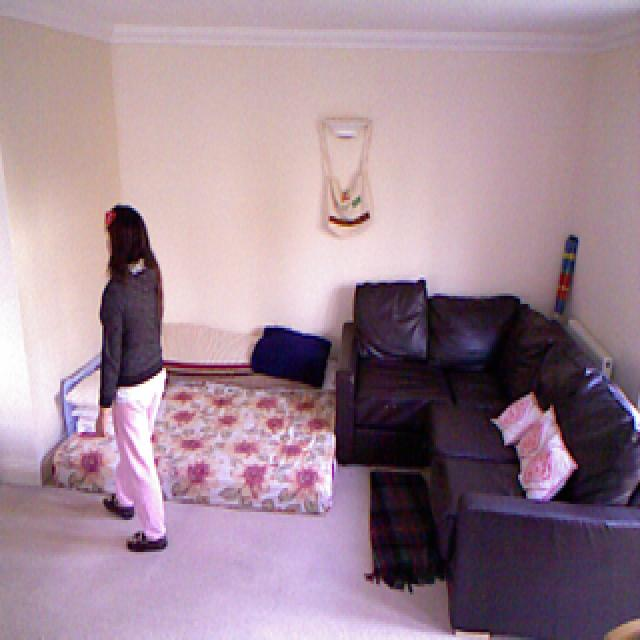standing: (91, 200, 186, 570)
